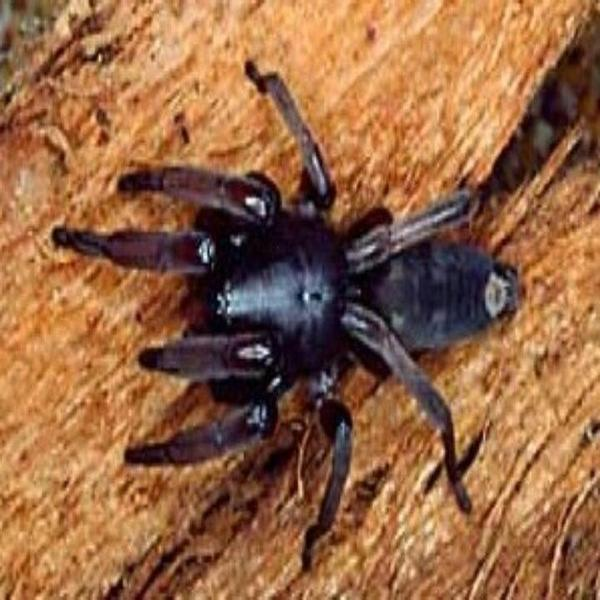White-Tailed Spider: (87, 73, 519, 536)
